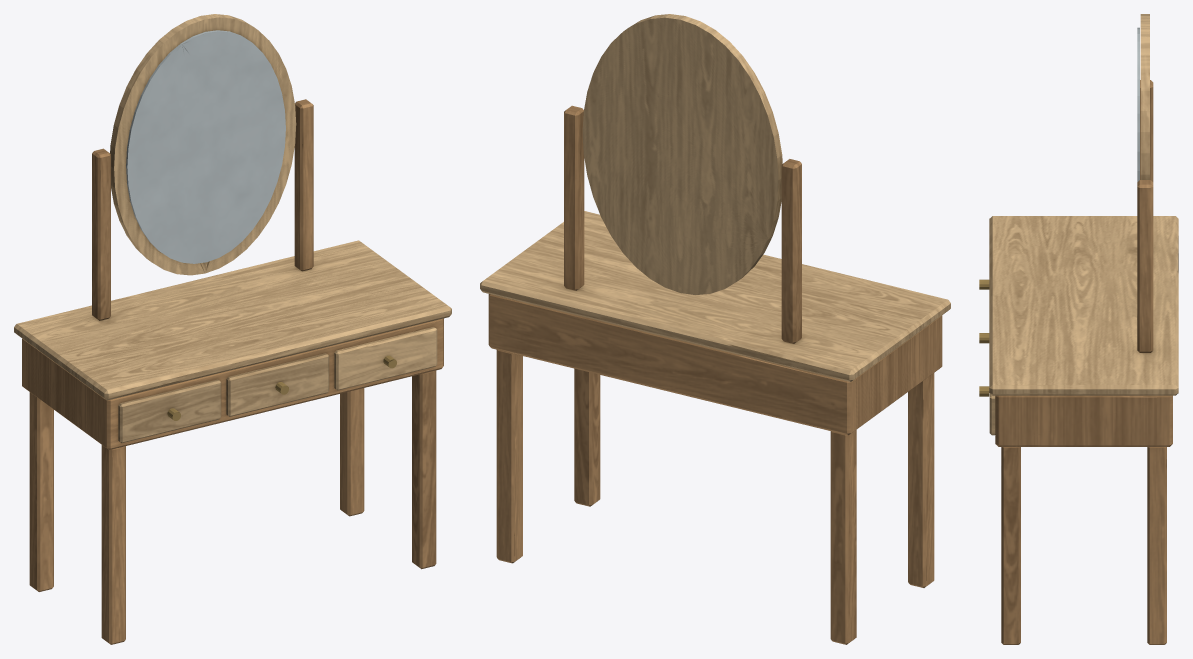
The model's file is vanity.glb.
The picture shows the model from 3 angles, left to right: view 1: azimuth 30°, elevation 25°; view 2: azimuth 150°, elevation 25°; view 3: azimuth 270°, elevation 25°; orthographic projection. The views are drawn at different scales.
Visible parts, largest first — view 1: vanity; view 2: vanity; view 3: vanity.
Part boxes in pixels (x1,y1,x2,y2): vanity: [14, 14, 451, 644]; vanity: [480, 14, 950, 644]; vanity: [979, 14, 1178, 644].
Size of the model in its own units: 1.03 by 1.52 by 0.506.
Materials: 1 (1 with a texture image).
